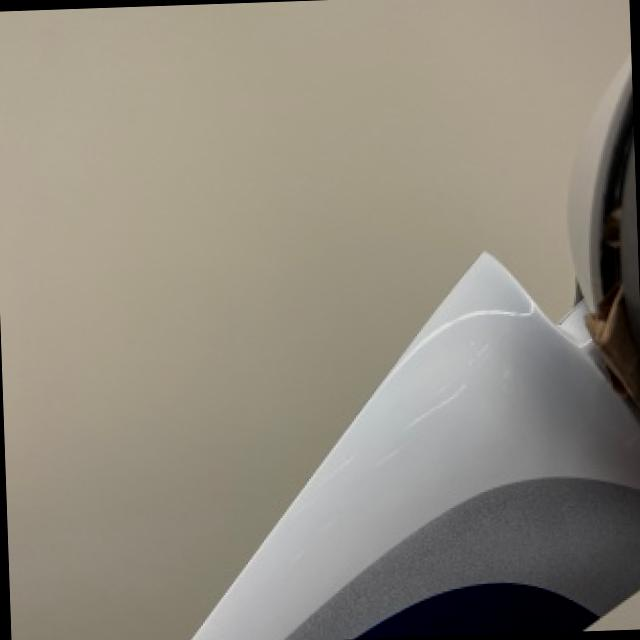healthy: (107, 0, 631, 639), (192, 57, 640, 640)
